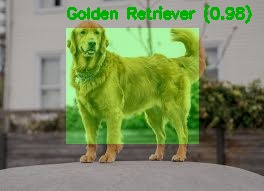golden retriever: (66, 29, 198, 143)
